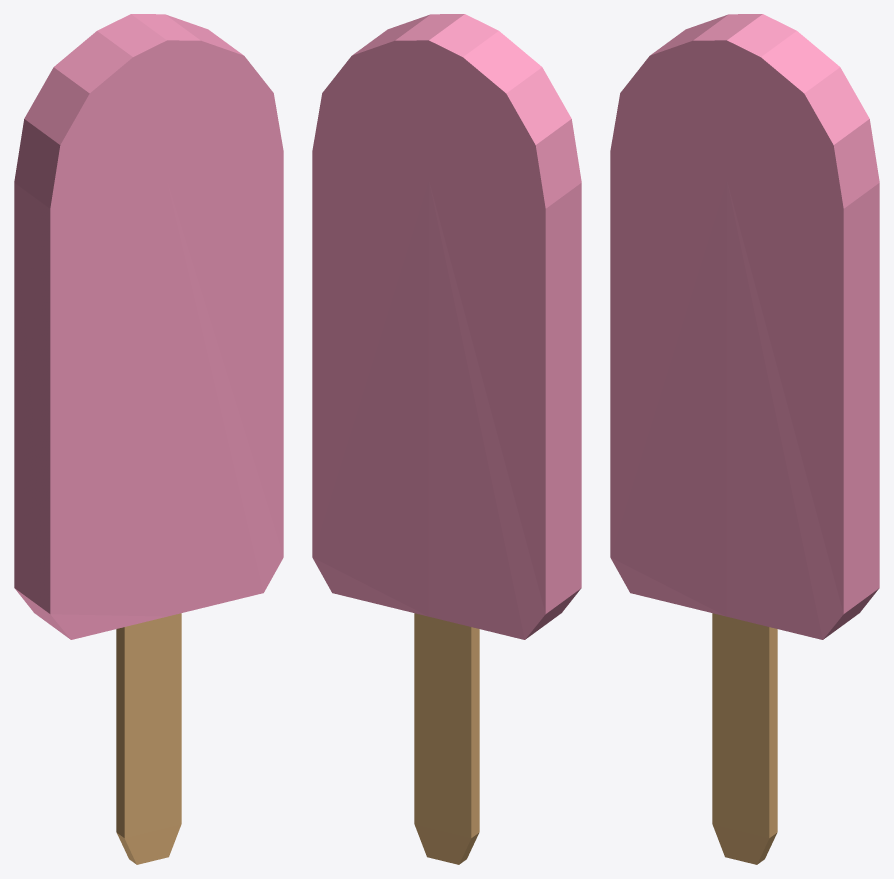
The model's file is Popsicle_Strawberry.obj.
3 renders of one model, left to right at view 1: azimuth 30°, elevation 25°; view 2: azimuth 150°, elevation 25°; view 3: azimuth 330°, elevation 25°, orthographic.
Visible parts, largest first — view 1: Popsicle_Strawberry_PalePink, Popsicle_Strawberry_Light; view 2: Popsicle_Strawberry_PalePink, Popsicle_Strawberry_Light; view 3: Popsicle_Strawberry_PalePink, Popsicle_Strawberry_Light.
Boxes of the visible parts, left/top/right/bottom form: Popsicle_Strawberry_PalePink: left=14, top=14, right=283, bottom=639; Popsicle_Strawberry_Light: left=116, top=613, right=181, bottom=864; Popsicle_Strawberry_PalePink: left=312, top=14, right=581, bottom=639; Popsicle_Strawberry_Light: left=414, top=613, right=479, bottom=864; Popsicle_Strawberry_PalePink: left=610, top=14, right=879, bottom=639; Popsicle_Strawberry_Light: left=712, top=613, right=777, bottom=864.
Bounding box in the file's own units: 0.2911 × 0.99 × 0.0798.
